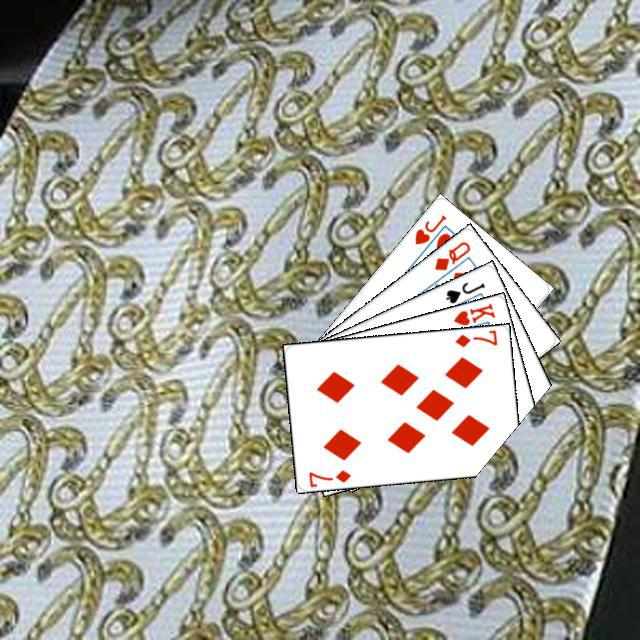7d: (450, 326, 499, 349), (304, 465, 352, 487)
Jh: (409, 210, 448, 246)
Js: (441, 277, 487, 305)
Kh: (447, 298, 497, 334)
Qd: (429, 236, 472, 272)
